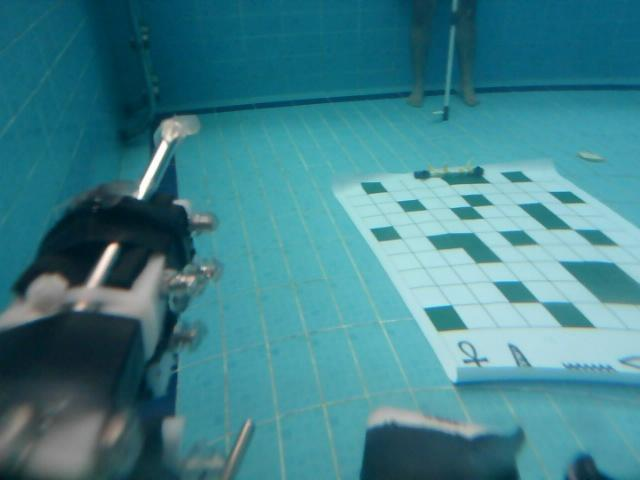Ankh: (457, 339, 484, 369)
Reed: (503, 342, 535, 375)
Water: (559, 358, 616, 376)
